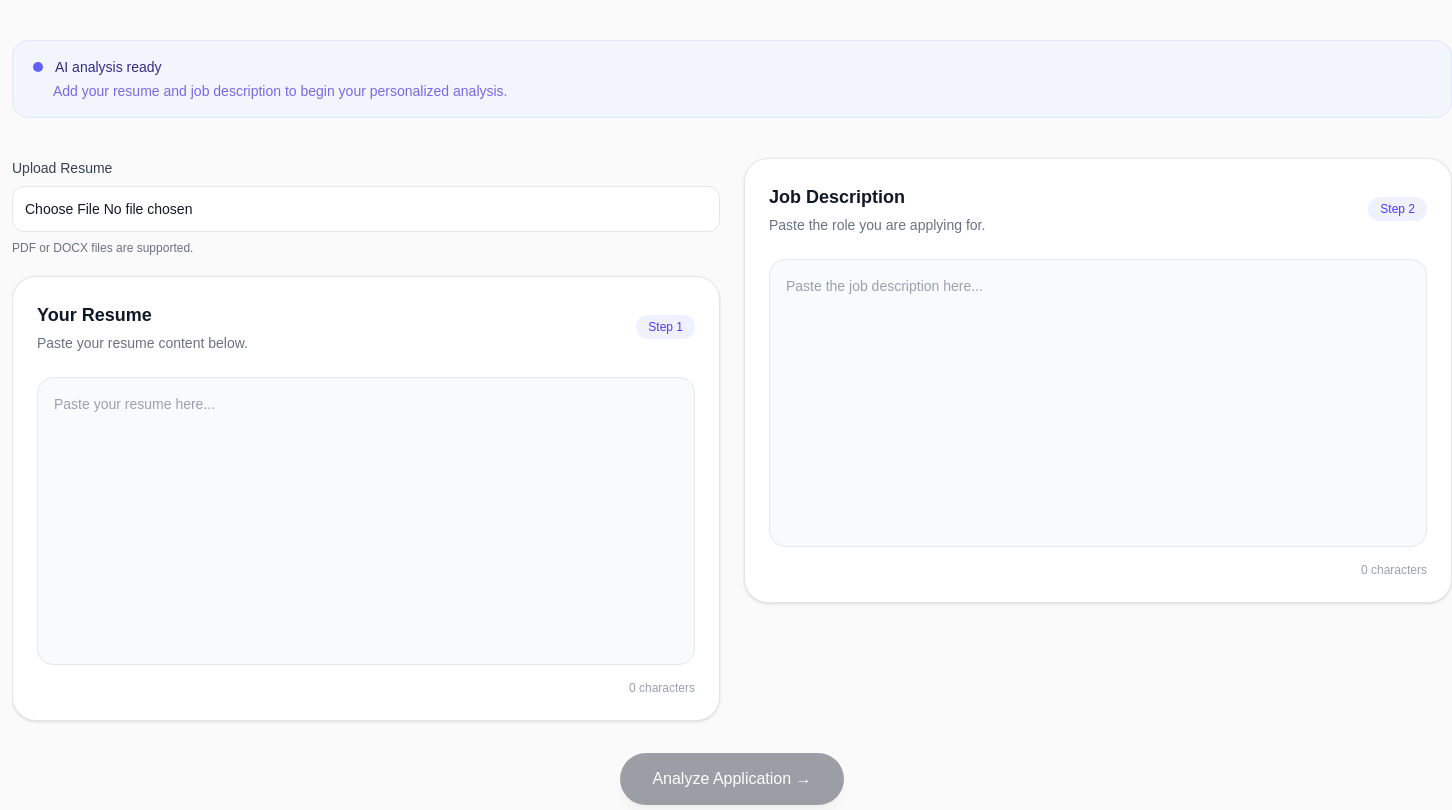
Test case: ApplicationForm › analyze button becomes enabled when both fields have text
Type "Frontend Developer with React experience." into the text box with placeholder "Paste your resume here...".
click(366, 521); type("Frontend Developer with React experience.")  # box 37,377 -> 695,665
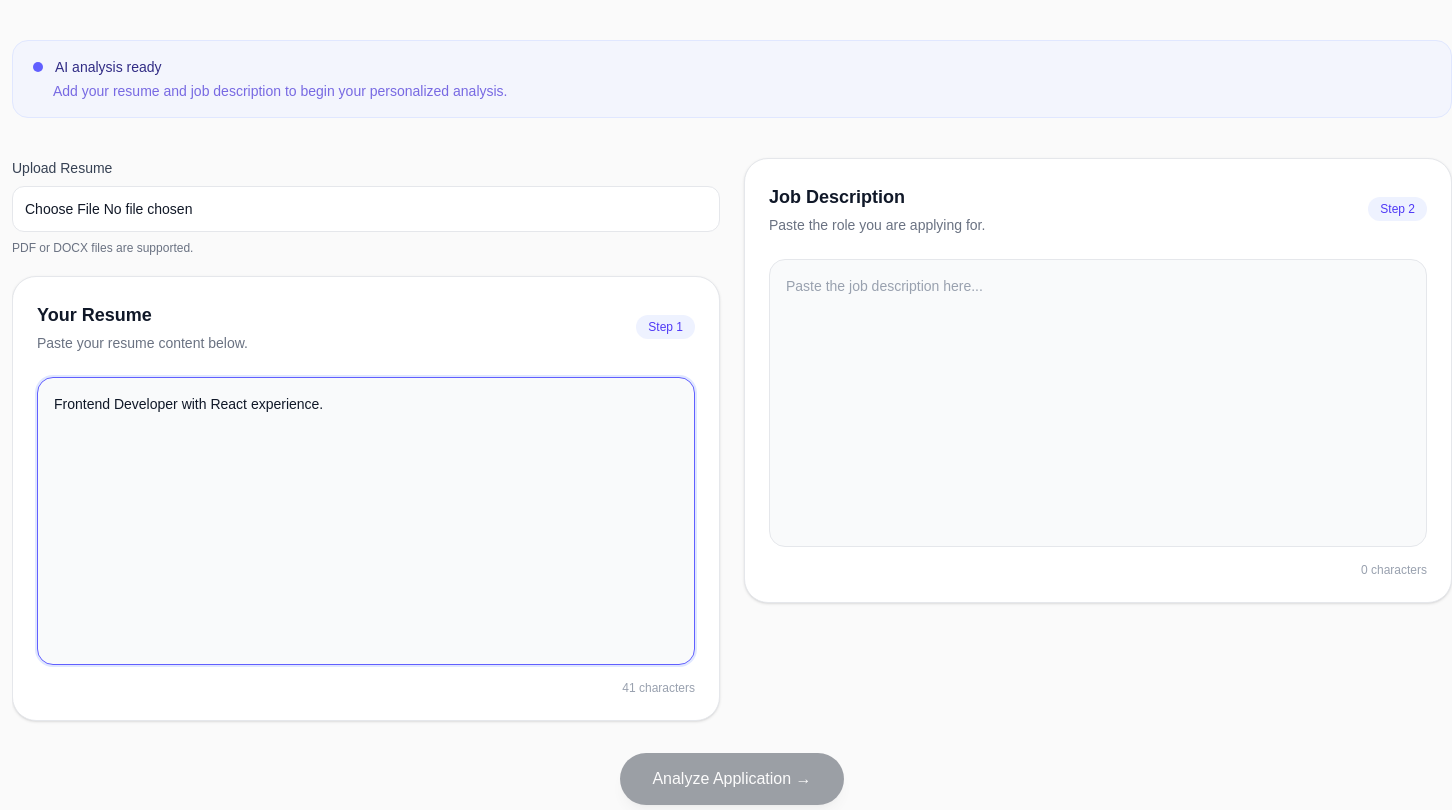
Type "Looking for a React developer with TypeScript experience." into the text box with placeholder "Paste the job description here...".
click(1098, 403); type("Looking for a React developer with TypeScript experience.")  # box 769,259 -> 1427,547
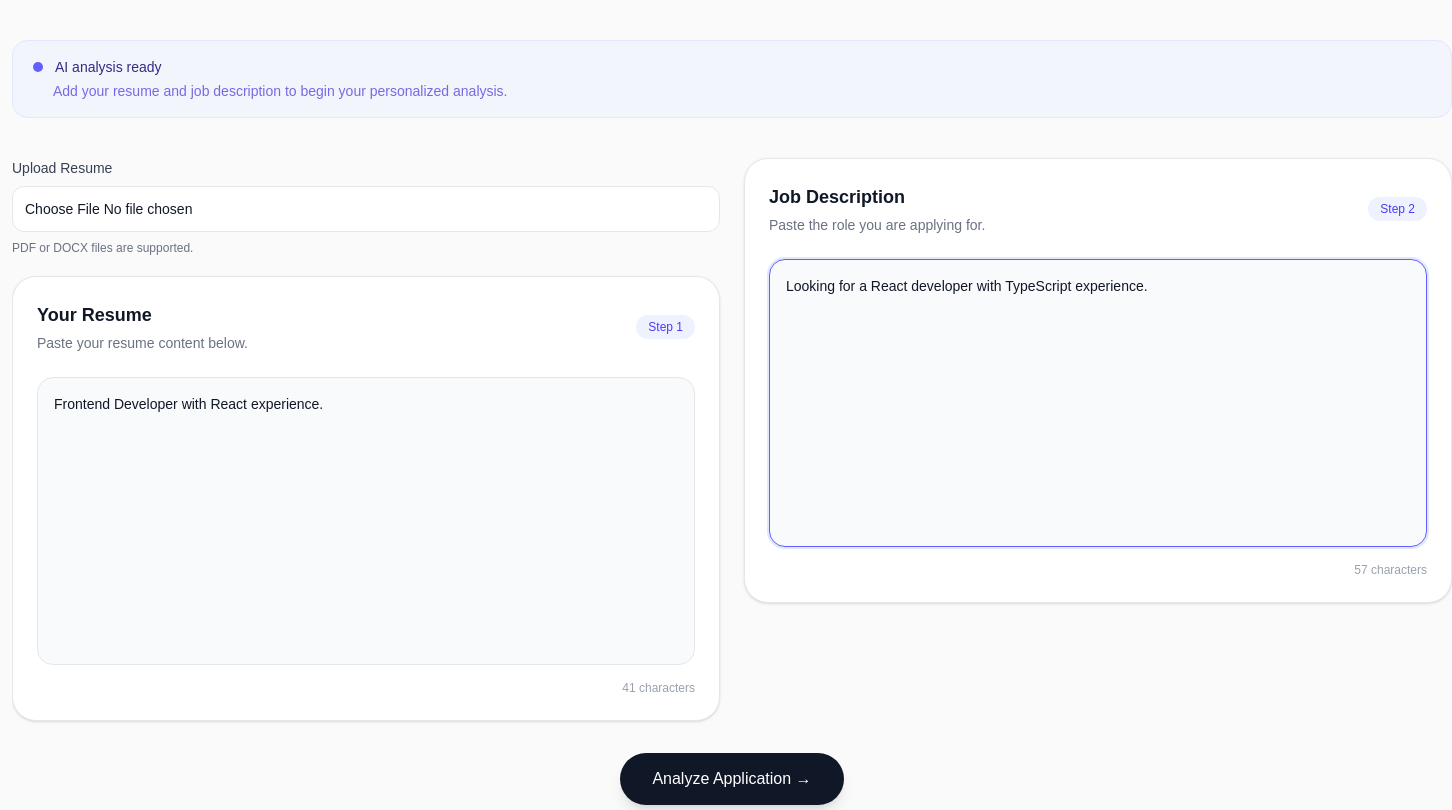
Expected: the button "Analyze Application →" is enabled, 620,753 -> 844,805
